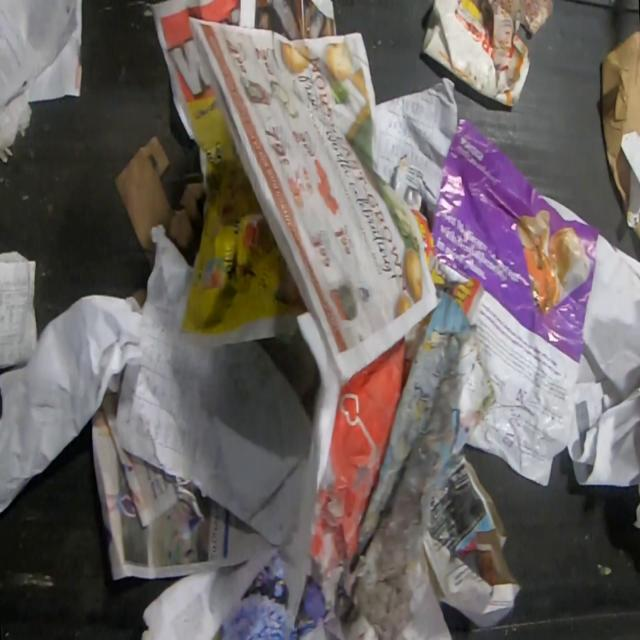cardboard: (116, 130, 204, 269), (422, 0, 535, 107), (600, 27, 640, 218)
